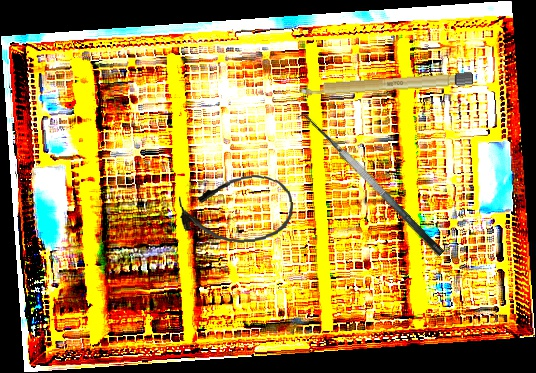Cannula: (177, 172, 296, 248)
Scalpel Handle: (298, 70, 474, 98)
Spatula Surgical: (290, 105, 446, 269)
